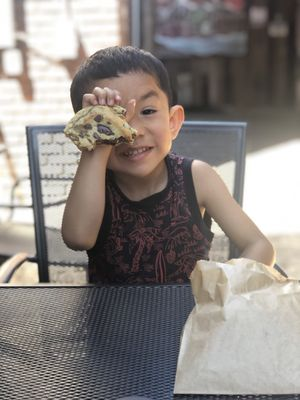curry: (0, 261, 299, 399)
salad: (63, 103, 138, 152)
